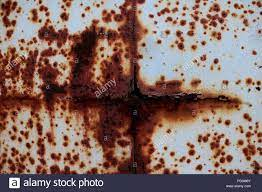rust: (5, 87, 242, 119), (119, 5, 159, 172), (60, 25, 100, 130), (183, 130, 261, 174), (172, 8, 234, 52), (2, 144, 78, 178), (97, 8, 124, 100), (5, 46, 38, 95), (34, 21, 74, 50), (1, 2, 21, 40), (243, 74, 254, 91), (210, 56, 224, 68)
